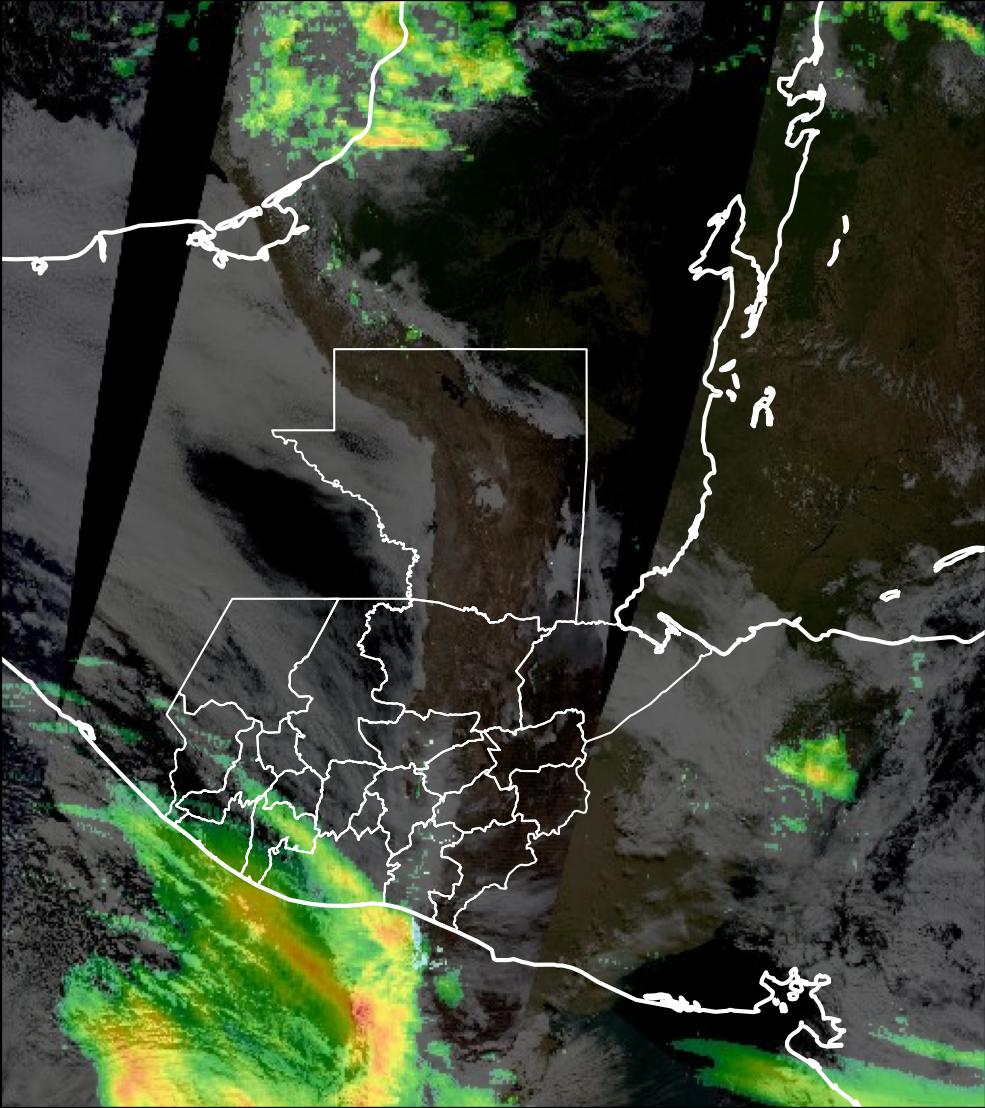precipitacion: (227, 891, 416, 1108)
